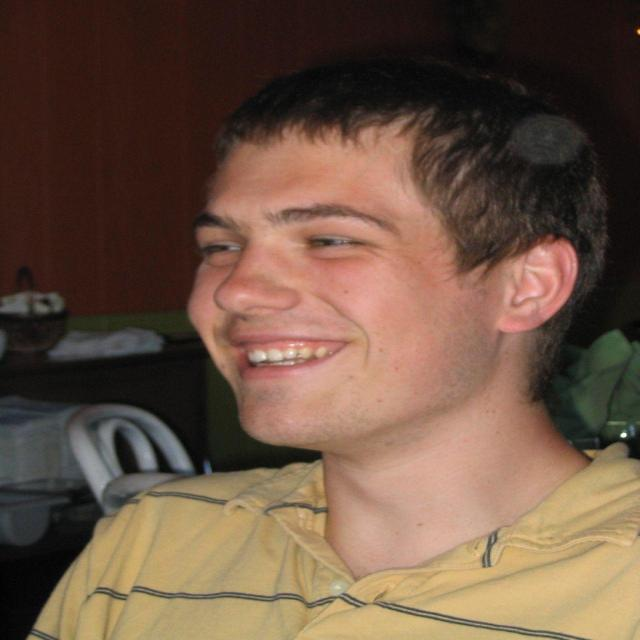no-glass: (192, 227, 372, 267)
